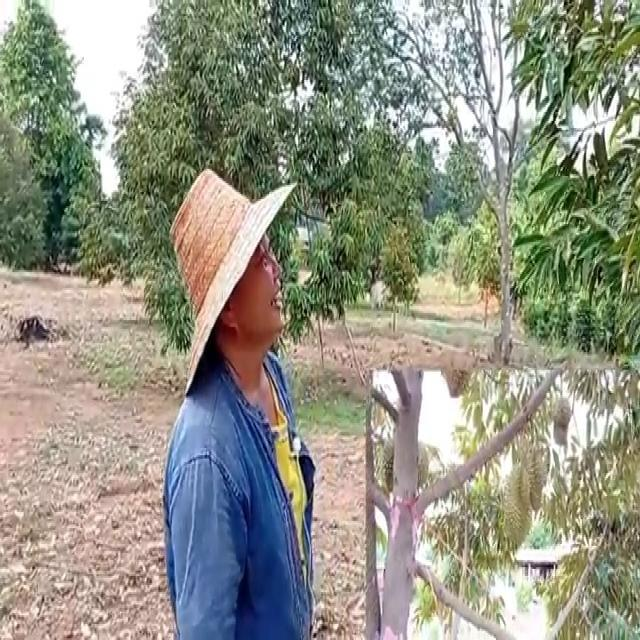durian: (499, 462, 536, 550), (518, 439, 550, 513), (381, 430, 405, 501)
